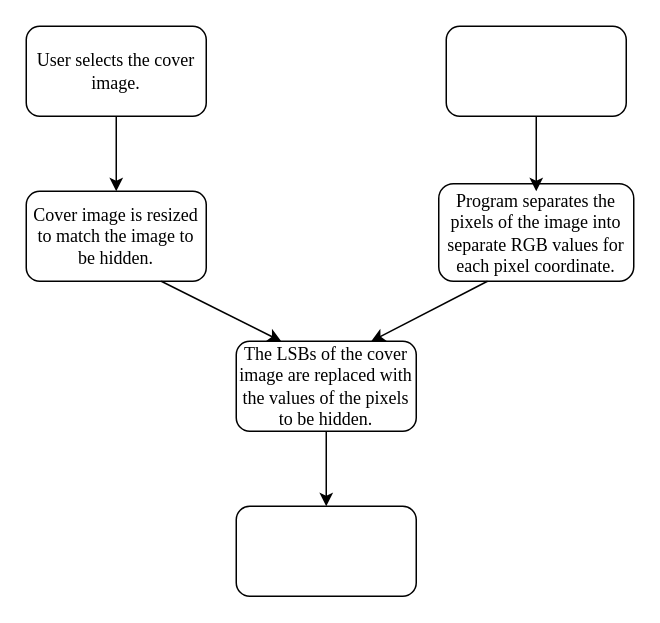
The diagram is 660 pixels wide and 623 high, and some of its shapes have lost their labels. The centre of each missing label's shape, as x and y in pixels:
"Program outputs the stego object." belongs at point 325,550.
"User selects the image to be hidden." belongs at point 535,70.
